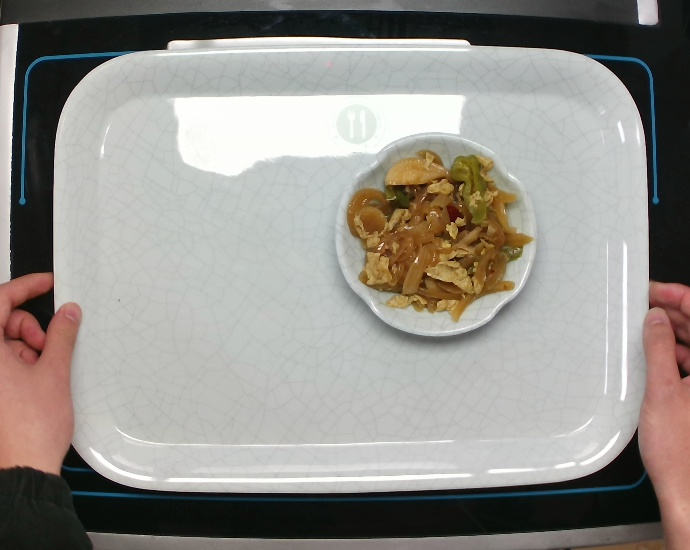JYsf-Ao_Yuan_Wan: (328, 127, 546, 341)
